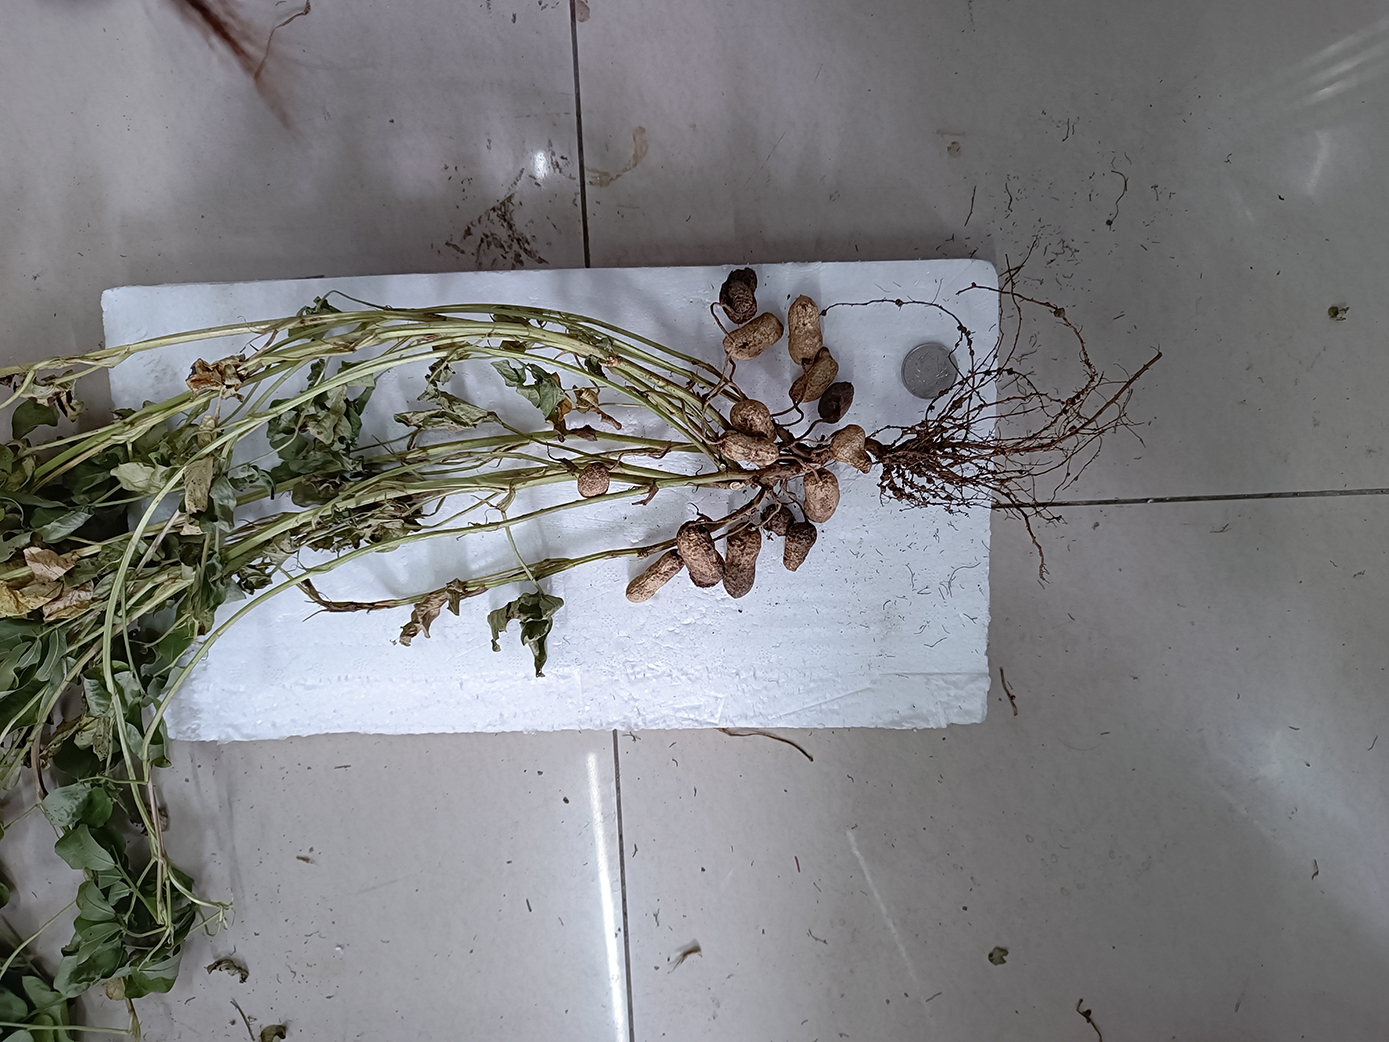h: (625, 549, 686, 604), (724, 311, 784, 361), (792, 345, 840, 402), (788, 293, 824, 364), (718, 429, 779, 468), (803, 467, 841, 523), (728, 400, 778, 440), (830, 424, 870, 474), (577, 462, 611, 497)
l: (678, 524, 721, 587), (724, 525, 761, 598), (719, 266, 757, 324), (783, 521, 815, 571), (818, 382, 853, 424), (760, 503, 792, 535)
